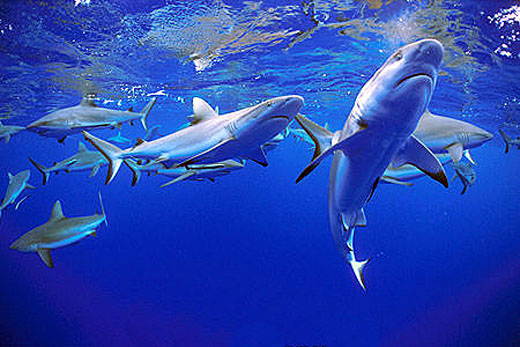Carcharhinus_amblyrhynchos: (1, 84, 309, 277), (311, 39, 443, 302)
